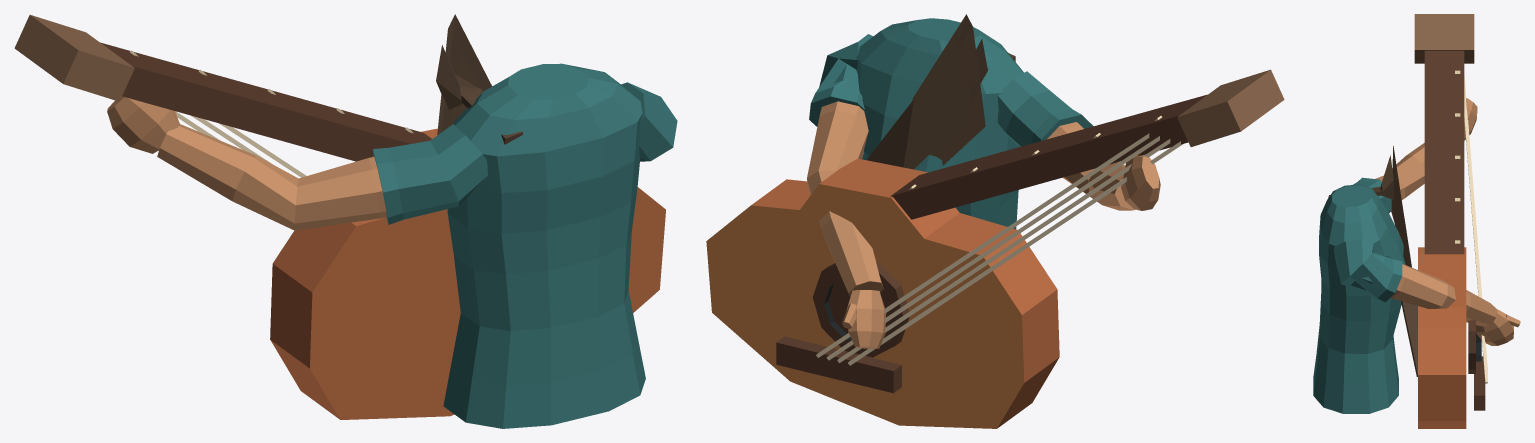
File: lwf_guitarist_female_acoustic_kit_v2.glb
3 views of the same model, side by side, from view 1: azimuth 30°, elevation 25°; view 2: azimuth 150°, elevation 25°; view 3: azimuth 270°, elevation 25° (orthographic). The views are drawn at different scales.
Parts seen in each view (by area): view 1: LWF_Guitarist_RightPlayingArm, LWF_Guitarist_AcousticGuitar, LWF_Guitarist_LeftPlayingArm, LWF_Fitted_LeatherStrap; view 2: LWF_Guitarist_AcousticGuitar, LWF_Guitarist_RightPlayingArm, LWF_Fitted_LeatherStrap, LWF_Guitarist_LeftPlayingArm; view 3: LWF_Guitarist_RightPlayingArm, LWF_Guitarist_AcousticGuitar, LWF_Fitted_LeatherStrap, LWF_Guitarist_LeftPlayingArm.
Part boxes in pixels (left/top/right/bottom): LWF_Guitarist_RightPlayingArm: left=443, top=63, right=677, bottom=428; LWF_Guitarist_AcousticGuitar: left=14, top=15, right=665, bottom=419; LWF_Guitarist_LeftPlayingArm: left=107, top=96, right=487, bottom=230; LWF_Fitted_LeatherStrap: left=436, top=14, right=522, bottom=144; LWF_Guitarist_AcousticGuitar: left=706, top=69, right=1284, bottom=428; LWF_Guitarist_RightPlayingArm: left=807, top=18, right=1023, bottom=348; LWF_Fitted_LeatherStrap: left=866, top=14, right=1015, bottom=169; LWF_Guitarist_LeftPlayingArm: left=997, top=71, right=1160, bottom=210; LWF_Guitarist_RightPlayingArm: left=1313, top=184, right=1520, bottom=413; LWF_Guitarist_AcousticGuitar: left=1414, top=14, right=1487, bottom=428; LWF_Fitted_LeatherStrap: left=1328, top=146, right=1417, bottom=376; LWF_Guitarist_LeftPlayingArm: left=1353, top=98, right=1477, bottom=212.
Bounding box in the file's own units: 0.9672 × 0.7009 × 0.4719.
3 materials, 3 textured.
